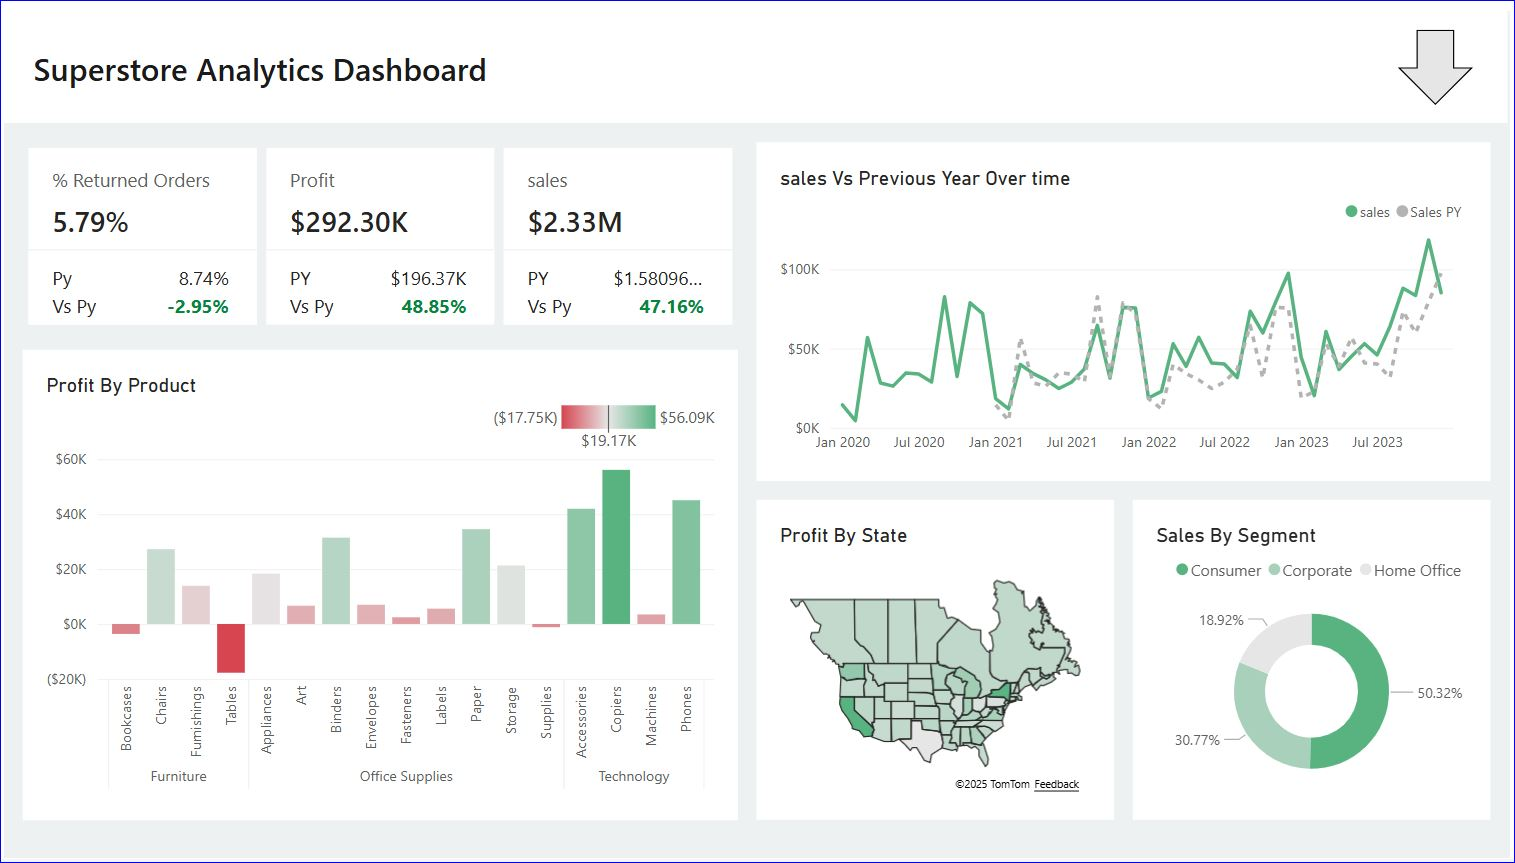

The page's visual inventory and layout, read from the dashboard file:
{"tool":"powerbi","page":{"name":"Page 1","canvas":[1280,720],"ordinal":0},"visuals":[{"type":"cardVisual","fields":{"Data":["Key Measures.% Returned Orders","Key Measures.Profit","Key Measures.sales"]},"box":[16,112,608,160],"z":0},{"type":"shape","box":[0,0,1279.4,95.3],"z":1000},{"type":"shape","title":"Shape Filter","box":[1184,16,64,64],"z":1500,"group":"g1"},{"type":"lineChart","title":"sales Vs Previous Year Over time","fields":{"Y":["Key Measures.sales","Key Measures.Sales PY"],"Category":["Date Table.Start of Month"]},"box":[640,112,624,288],"z":2000},{"type":"columnChart","title":"Profit By Product","fields":{"Category":["Orders.Category","Orders.Sub-Category"],"Y":["Key Measures.Profit"]},"box":[16,288,608,400],"z":3000},{"type":"azureMap","title":"Profit By State","fields":{"Category":["Orders.State/Province"]},"box":[640,416,304,272],"z":4000},{"type":"donutChart","title":"Sales By Segment","fields":{"Y":["Key Measures.sales"],"Category":["Orders.Segment"]},"box":[960,416,304,272],"z":5000},{"type":"group","id":"g1","title":"Filter Pane","box":[720,16,560,416],"z":6000}]}

Visuals, with their boxes in screenshot pixels (x1, y1, x2, y2), scaled from the page's 1280x720 canvas onto the 1515x863 screenshot:
cardVisual - Key Measures.% Returned Orders x Key Measures.Profit: <region>19, 134, 739, 326</region>
shape: <region>0, 0, 1514, 114</region>
"Shape Filter" shape: <region>1401, 19, 1477, 96</region>
"sales Vs Previous Year Over time" lineChart: <region>758, 134, 1496, 479</region>
"Profit By Product" columnChart: <region>19, 345, 739, 825</region>
"Profit By State" azureMap: <region>758, 499, 1117, 825</region>
"Sales By Segment" donutChart: <region>1136, 499, 1496, 825</region>
"Filter Pane" group: <region>852, 19, 1514, 518</region>
